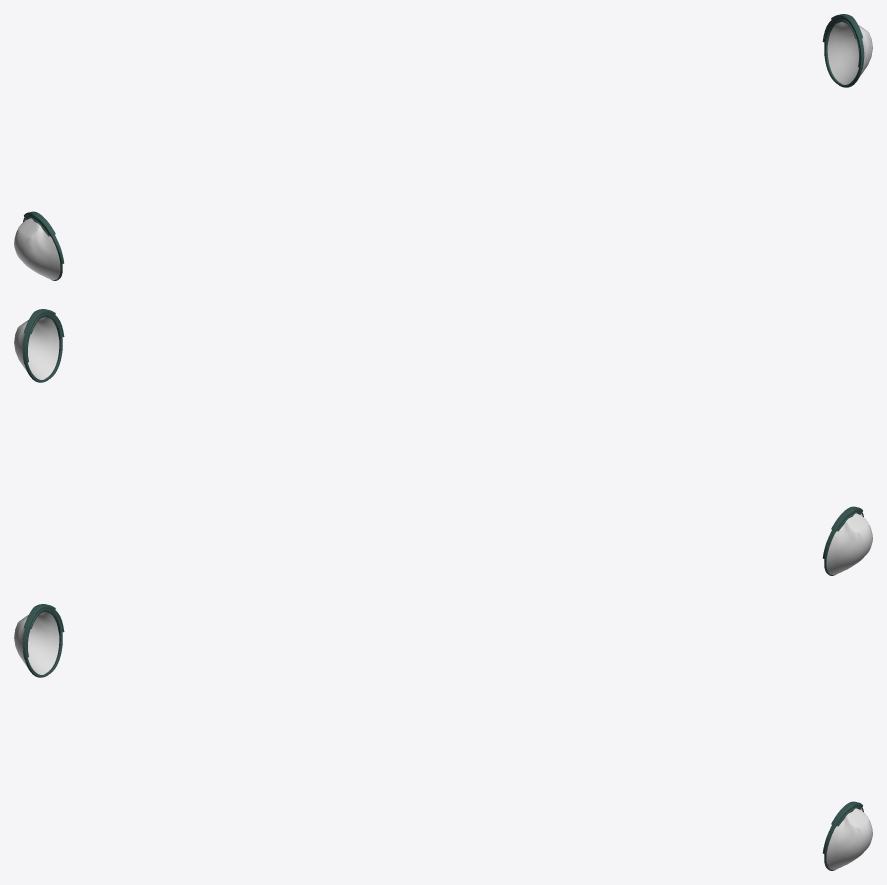
The model's file is MDL_Goals_01.fbx.
3 renders of one model, top to bottom at view 1: azimuth 30°, elevation 25°; view 2: azimuth 150°, elevation 25°; view 3: azimuth 330°, elevation 25°, orthographic.
Parts seen in each view (by area): view 1: Goal T1.001, Goal T1; view 2: Goal T1.001, Goal T1; view 3: Goal T1, Goal T1.001.
Part boxes in pixels (box(x1,y1,x2,y2)): Goal T1.001: box(827, 22, 872, 84); Goal T1: box(14, 218, 60, 280); Goal T1.001: box(14, 317, 59, 379); Goal T1: box(826, 513, 872, 575); Goal T1: box(14, 612, 59, 674); Goal T1.001: box(826, 808, 872, 870).
Bounding box in the file's own units: 4415 × 325 × 342.
